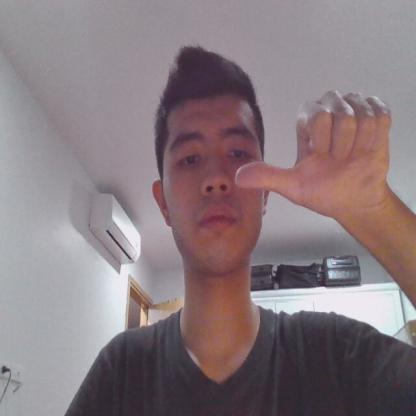right: (235, 88, 390, 240)
